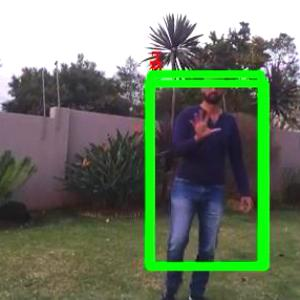follow_hand: (187, 105, 221, 139)
